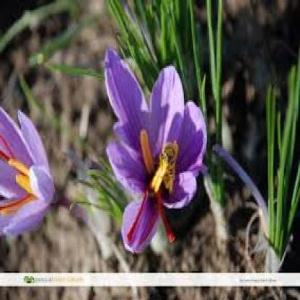Saffron: (105, 46, 205, 253), (0, 105, 60, 238)
